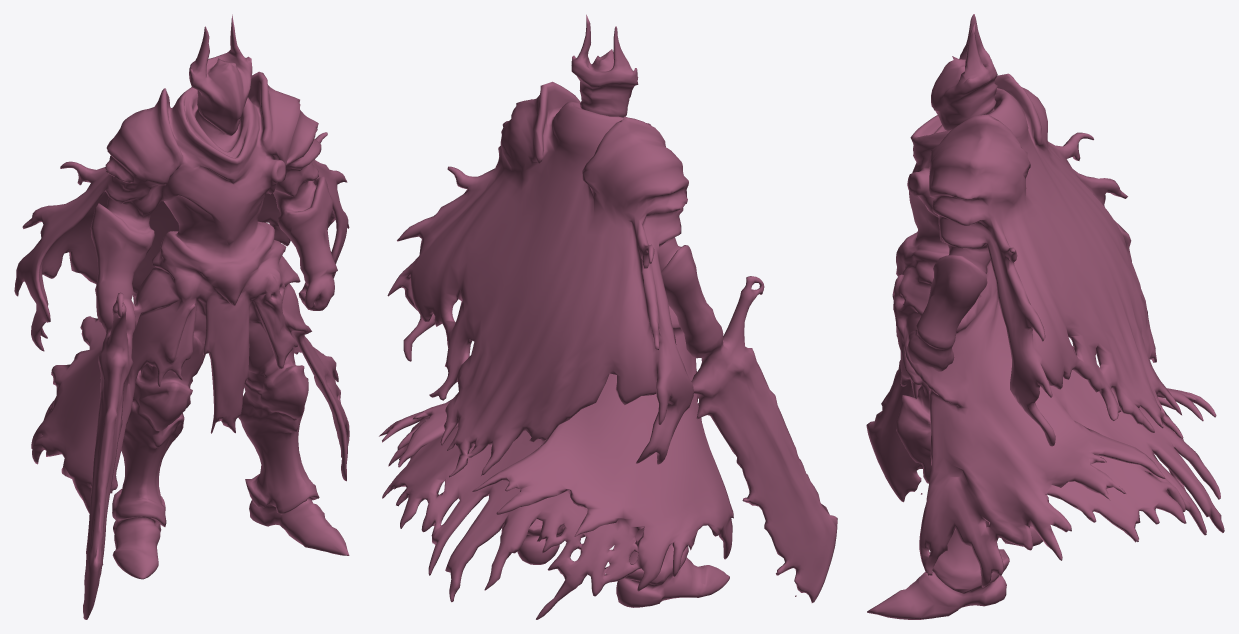
File: cinder-warden.glb
3 views of the same model, side by side, from view 1: azimuth 30°, elevation 25°; view 2: azimuth 150°, elevation 25°; view 3: azimuth 270°, elevation 25° (orthographic). The views are drawn at different scales.
Visible parts, largest first — view 1: model; view 2: model; view 3: model.
Part boxes in pixels (x1,y1,x2,y2): model: (14, 14, 349, 619); model: (379, 14, 837, 619); model: (866, 14, 1224, 619).
Size of the model in its own units: 1.25 by 1.88 by 1.07.
